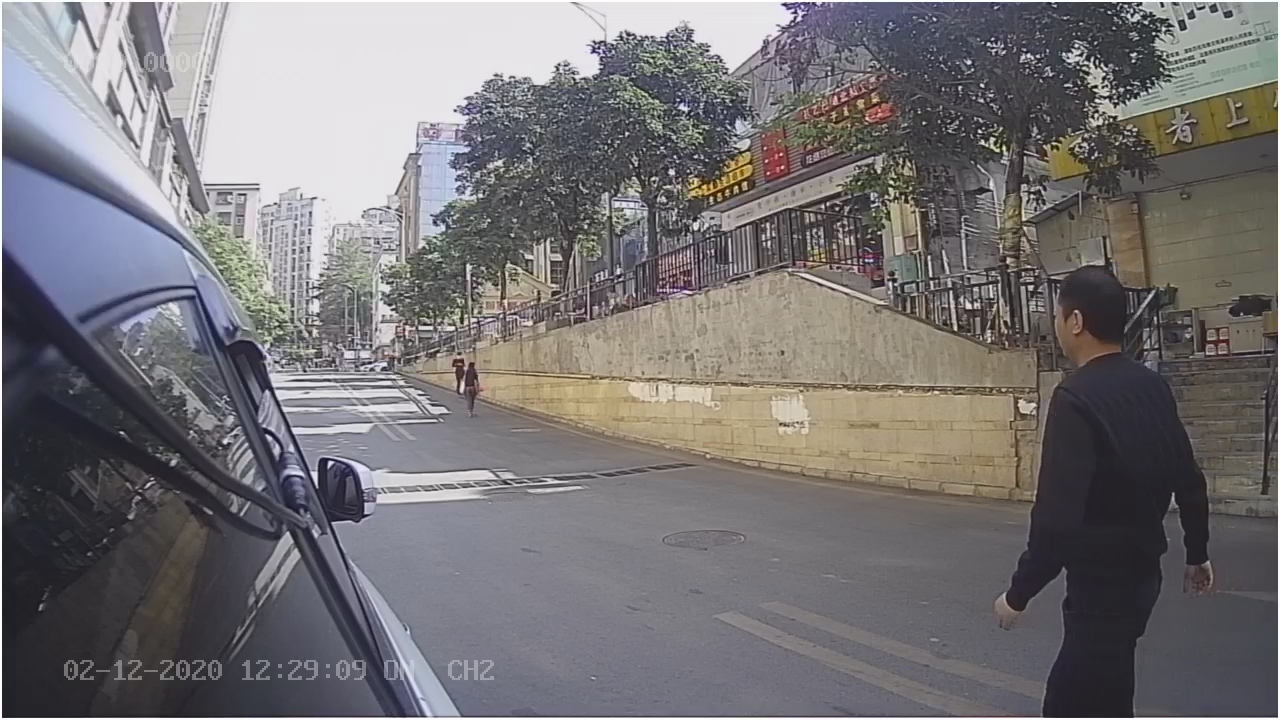person: (985, 258, 1211, 630)
